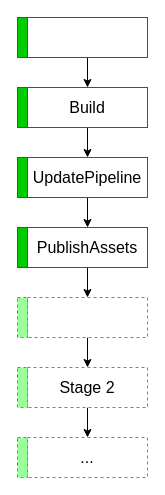
This 165x495 diagram has some shape labels left out. The shapes that lost their labels are listed below. From the top down, each one's centre as x and y in pixels, then its label:
At (x=87, y=37): "Source".
At (x=87, y=317): "Stage 1".
